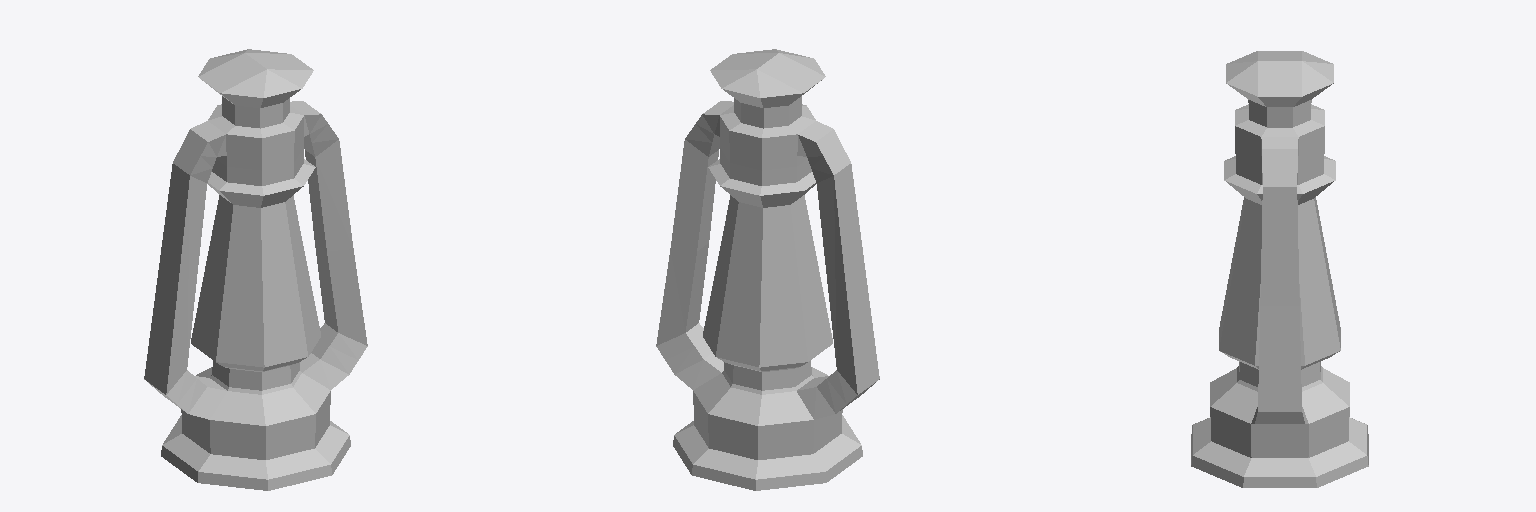
The model's file is lantern.obj.
3 views of the same model, side by side, from view 1: azimuth 30°, elevation 25°; view 2: azimuth 150°, elevation 25°; view 3: azimuth 270°, elevation 25° (orthographic).
Parts seen in each view (by area): view 1: Lantern_LowPoly_Cylinder.001; view 2: Lantern_LowPoly_Cylinder.001; view 3: Lantern_LowPoly_Cylinder.001.
Part boxes in pixels (left/top/right/bottom): Lantern_LowPoly_Cylinder.001: left=144, top=49, right=367, bottom=490; Lantern_LowPoly_Cylinder.001: left=656, top=49, right=879, bottom=490; Lantern_LowPoly_Cylinder.001: left=1191, top=51, right=1368, bottom=487.
Bounding box in the file's own units: 1.64 × 3.04 × 1.25.